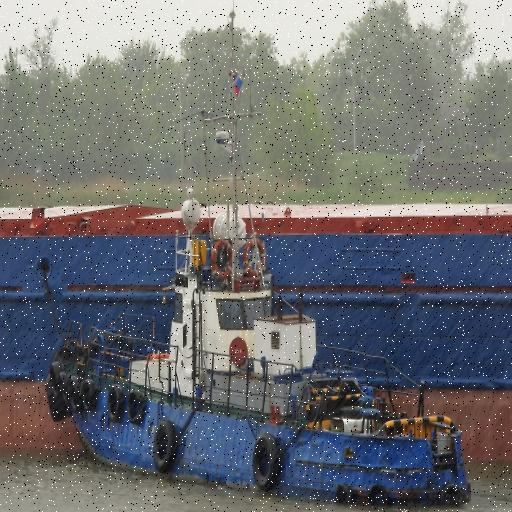tugboat: (44, 180, 483, 512)
